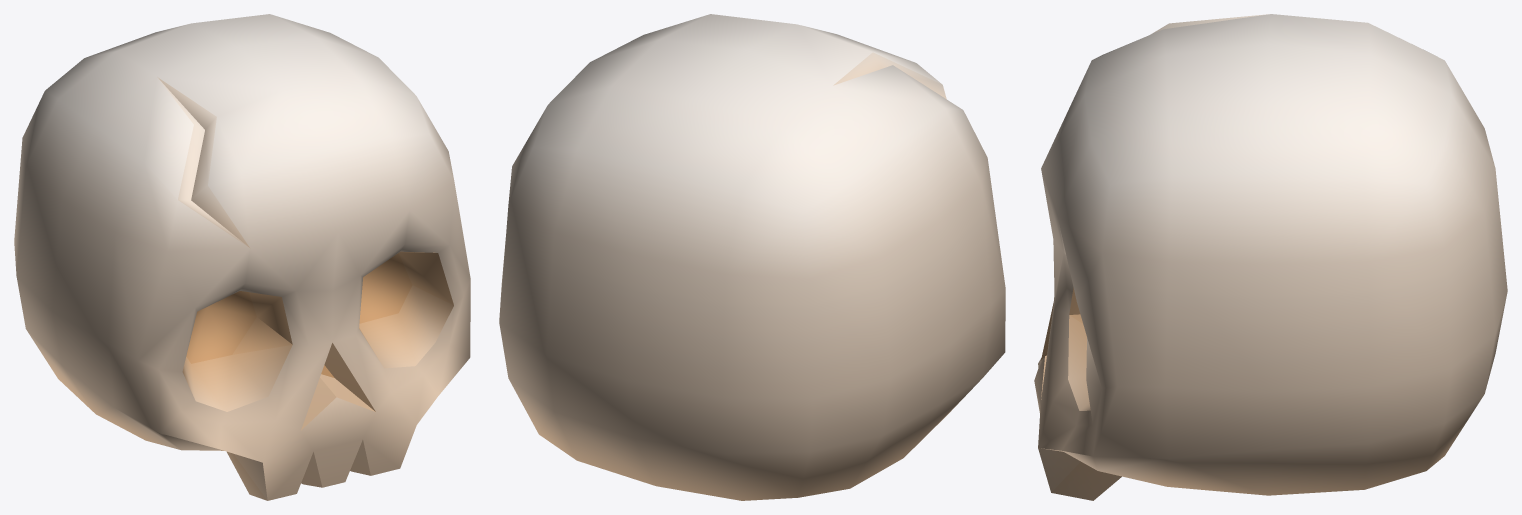
File: skull.obj
The picture shows the model from 3 angles, left to right: view 1: azimuth 30°, elevation 25°; view 2: azimuth 150°, elevation 25°; view 3: azimuth 270°, elevation 25°; orthographic projection. The views are drawn at different scales.
Visible parts, largest first — view 1: skull_Cube.540; view 2: skull_Cube.540; view 3: skull_Cube.540.
Part boxes in pixels (bbox=[...]): skull_Cube.540: bbox=[14, 14, 470, 500]; skull_Cube.540: bbox=[499, 14, 1005, 500]; skull_Cube.540: bbox=[1034, 14, 1507, 500].
Bounding box in the file's own units: 0.9176 × 0.8982 × 0.9072.
1 material, 1 textured.
